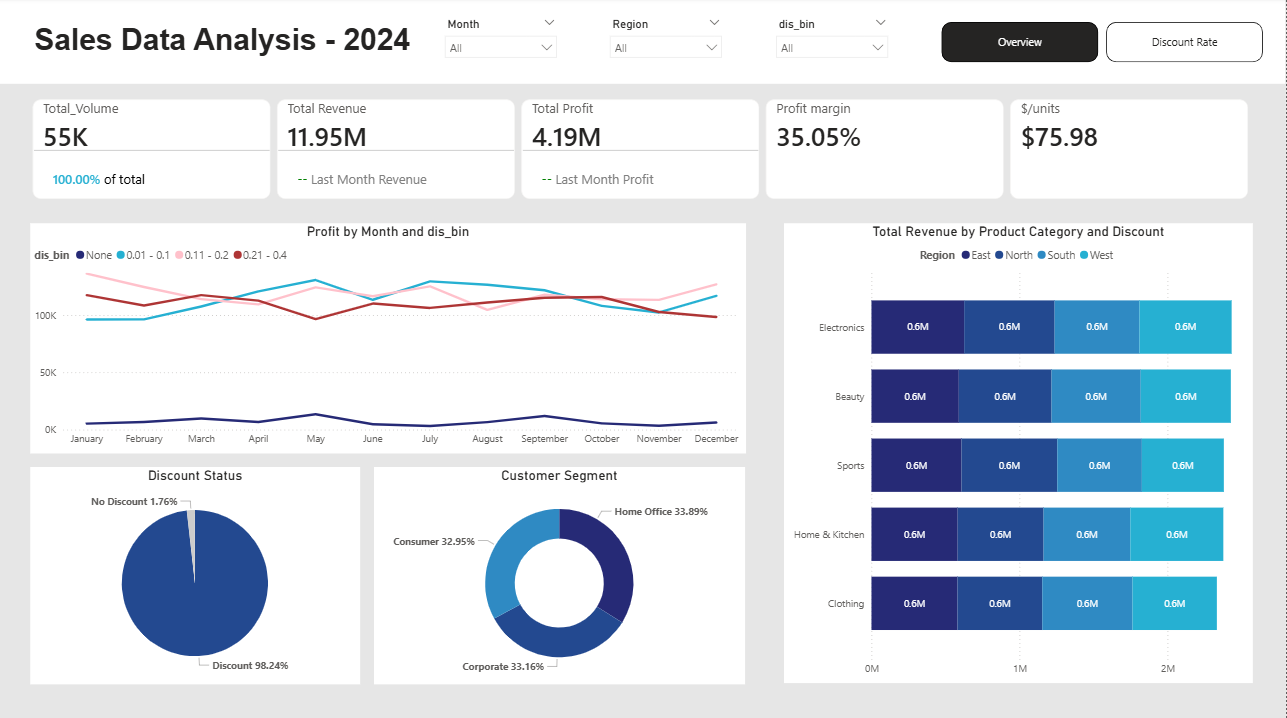

Layout of this report page (visuals, bound fields, positions):
{"tool":"powerbi","page":{"name":"Overview","canvas":[1600,900],"ordinal":0},"visuals":[{"type":"textbox","box":[0,0,1600,108.3],"z":0},{"type":"cardVisual","fields":{"Data":["_measure.t_vol","_measure.t_rev","_measure.t_profit","_measure.Profit margin","_measure.Profit per quantity"]},"box":[25,110,1546.7,158.3],"z":1000},{"type":"slicer","fields":{"Values":["date.Month"]},"box":[541.4,15.7,166.3,81.2],"z":2000,"group":"g1"},{"type":"textbox","box":[38.3,26.7,490,56.7],"z":2000},{"type":"group","id":"g1","title":"Group 1","box":[541.4,15.7,577.1,81.4],"z":3000},{"type":"slicer","fields":{"Values":["sales.Region"]},"box":[747.4,15.7,166.3,81.2],"z":3000,"group":"g1"},{"type":"slicer","fields":{"Values":["sales.dis_bin"]},"box":[953.3,15.7,166.3,81.2],"z":4000,"group":"g1"},{"type":"lineChart","title":"Profit by Month and dis_bin","fields":{"Category":["date.Date.Variation.Date Hierarchy.Year","date.Date.Variation.Date Hierarchy.Quarter","date.Date.Variation.Date Hierarchy.Month","date.Date.Variation.Date Hierarchy.Day"],"Series":["sales.dis_bin"],"Y":["_measure.t_profit"]},"box":[38.3,281.7,890,286.7],"z":4000},{"type":"barChart","title":"Total Revenue by Product Category and Discount","fields":{"Category":["sales.Product_Category"],"Y":["_measure.t_rev"],"Series":["sales.Region"]},"box":[976.7,281.7,583.3,571.7],"z":5000},{"type":"pieChart","title":"Discount Status","fields":{"Category":["sales.Discount Status"],"Y":["CountNonNull(sales.Discount Status)"]},"box":[38.6,584.3,410,270],"z":6000},{"type":"donutChart","title":"Customer Segment","fields":{"Category":["sales.Customer_Segment"],"Y":["CountNonNull(sales.Customer_Segment)"]},"box":[467.1,584.3,461.4,270],"z":7000},{"type":"pageNavigator","box":[1172.9,31.4,400,50],"z":8000}]}

Visuals, with their boxes in screenshot pixels (x1, y1, x2, y2), scaled from the page's 1600x900 canvas onto the 1287x718 screenshot:
textbox: BBox(0, 0, 1286, 86)
cardVisual - _measure.t_vol x _measure.t_rev: BBox(20, 88, 1264, 214)
slicer - date.Month: BBox(435, 13, 569, 77)
textbox: BBox(31, 21, 425, 67)
"Group 1" group: BBox(435, 13, 900, 77)
slicer - sales.Region: BBox(601, 13, 735, 77)
slicer - sales.dis_bin: BBox(767, 13, 901, 77)
"Profit by Month and dis_bin" lineChart: BBox(31, 225, 747, 453)
"Total Revenue by Product Category and Discount" barChart: BBox(786, 225, 1255, 681)
"Discount Status" pieChart: BBox(31, 466, 361, 682)
"Customer Segment" donutChart: BBox(376, 466, 747, 682)
pageNavigator: BBox(943, 25, 1265, 65)
